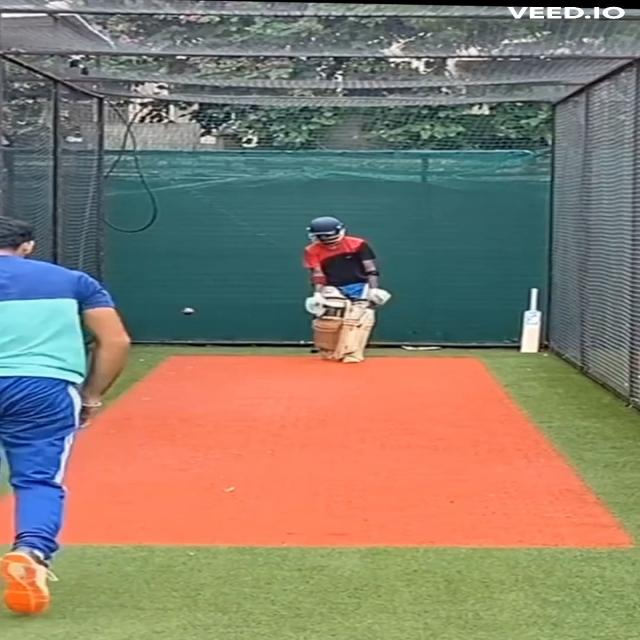ball: (178, 303, 200, 318)
